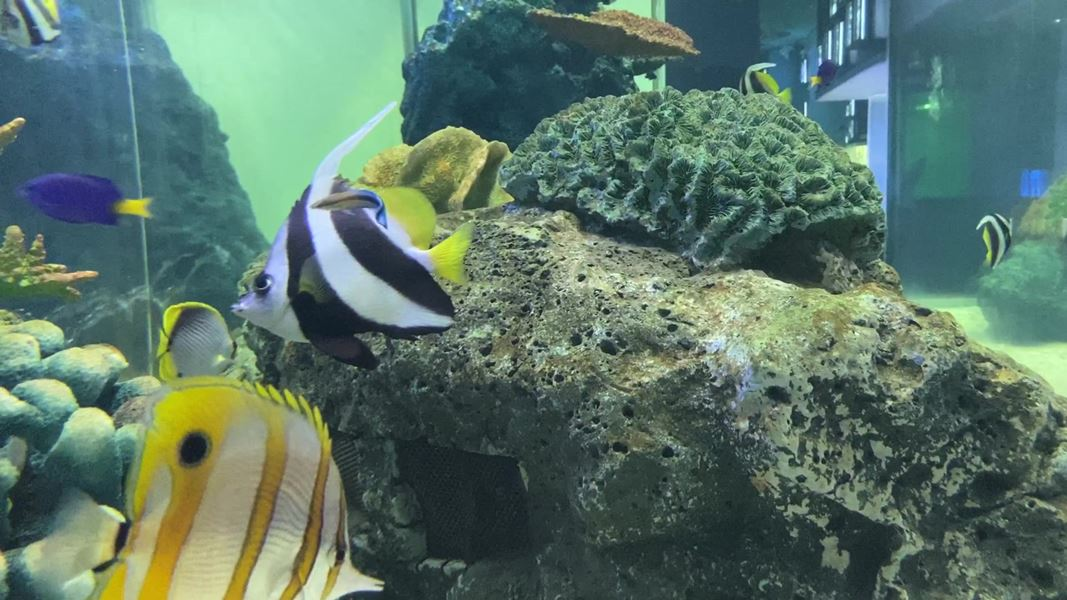Bluesteak cleaner wrasse: (303, 179, 398, 235)
